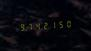five: (57, 19, 64, 29)
four: (33, 20, 40, 31)
nine: (17, 21, 24, 32)
one: (49, 19, 56, 30)
seven: (25, 21, 32, 31)
two: (41, 20, 48, 30)
zero: (65, 18, 72, 29)
